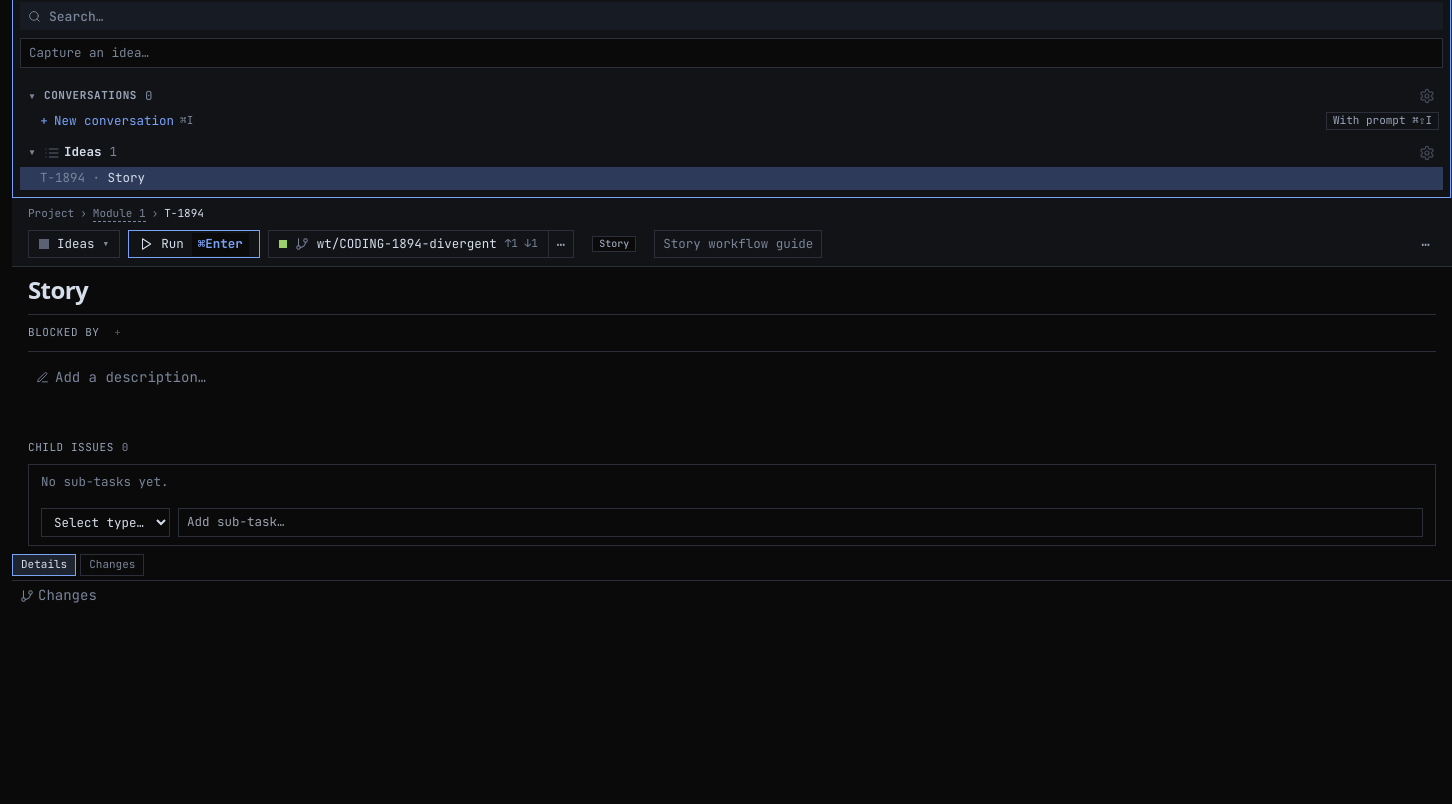
Test case: overhaul acceptance - divergent local merge recovery › [overhaul-318] finishes only the staged resolution after confirmation and remains retryable after hook failure
Click the tab "Changes". click: (112, 565)
box: [80, 554, 144, 576]
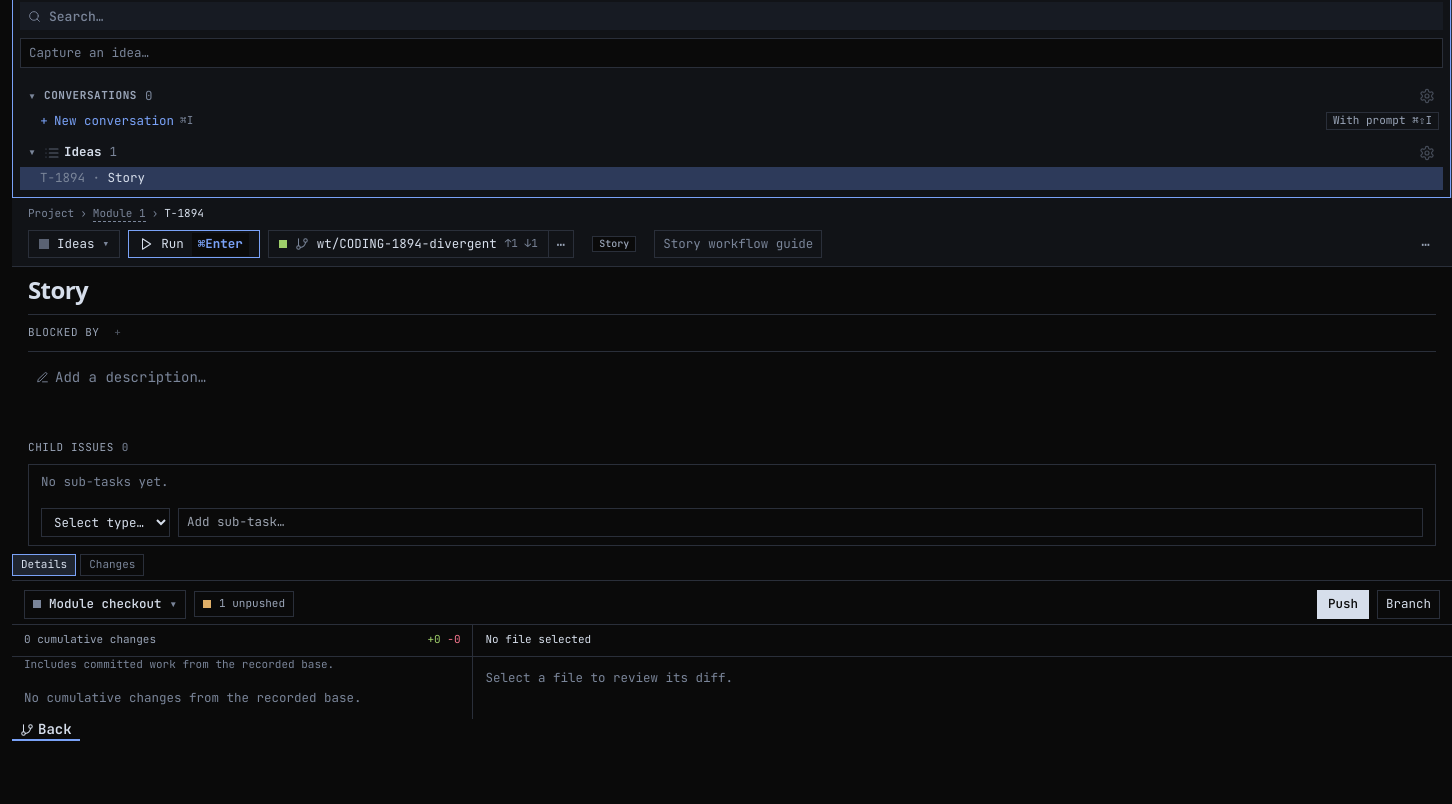
Click the button "Branch". click: (1408, 604)
box: [1377, 590, 1440, 619]
(page scrolled)
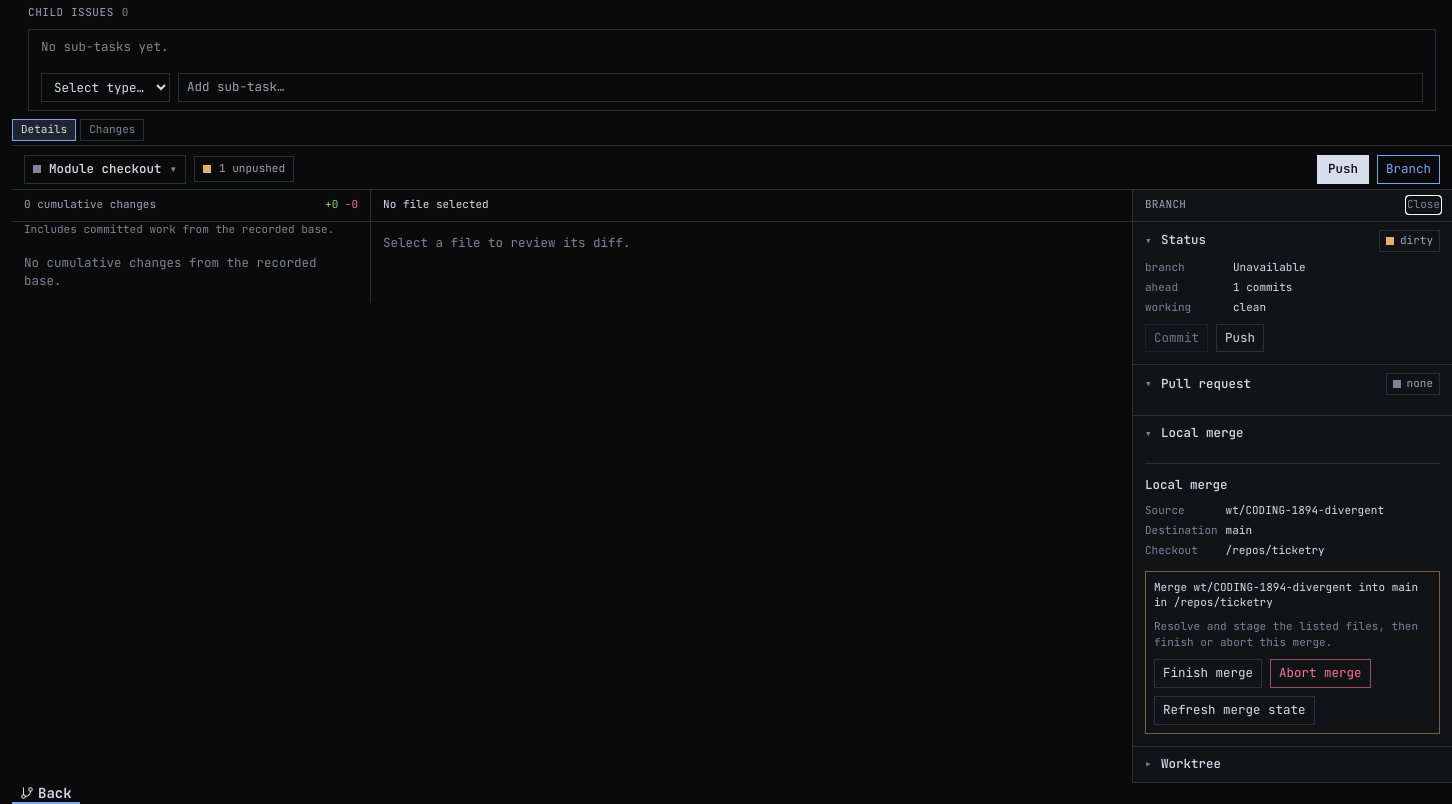
Click the button "Finish merge". click: (1208, 674)
box: [1154, 659, 1262, 688]
(page scrolled)
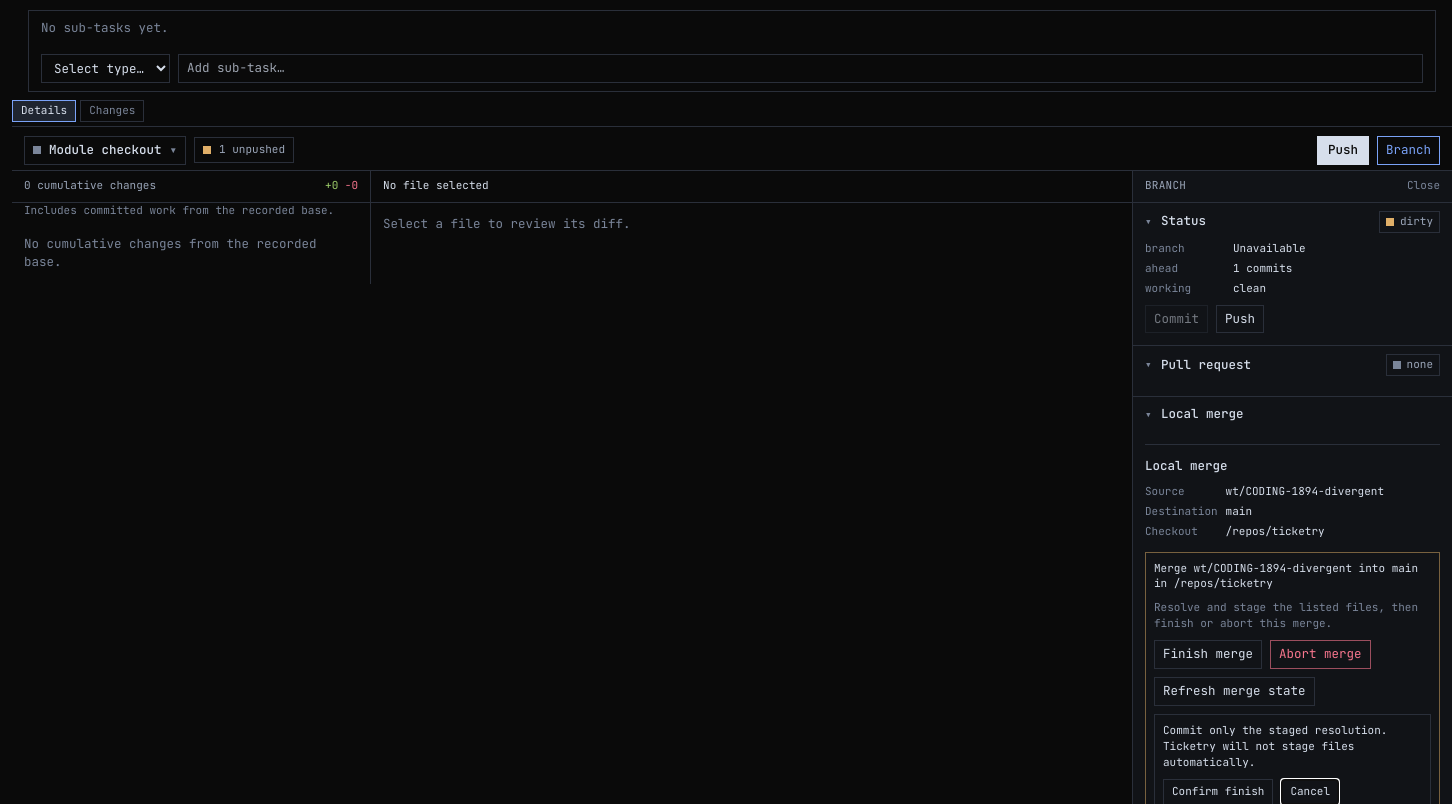
Expected: the element named "Confirm finish merge" shows "only the staged resolution", [1163, 723, 1387, 769]
Click the button "Confirm finish". click: (1218, 792)
box: [1163, 779, 1273, 803]
(page scrolled)
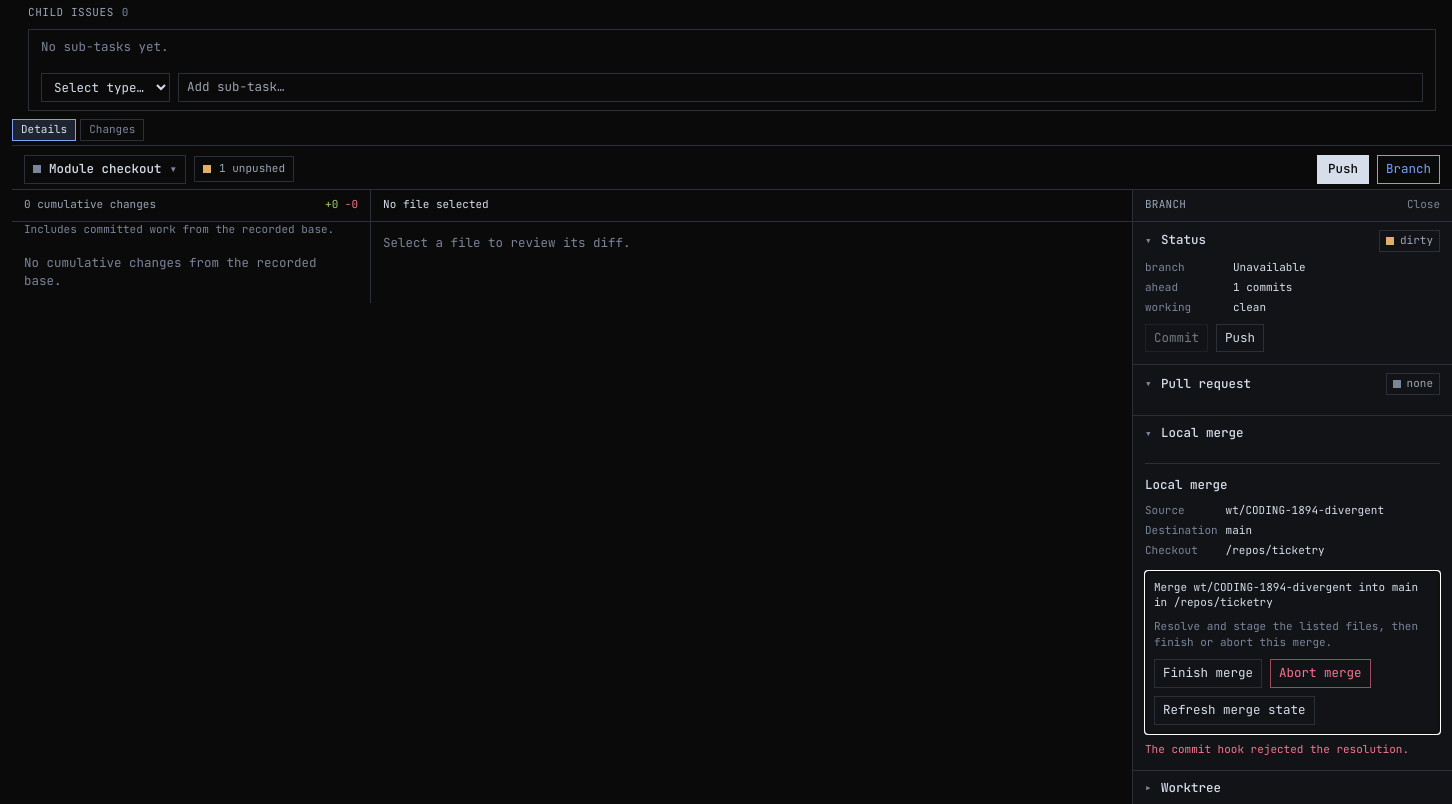
Expected: the button "Finish merge" is enabled
Expected: the message reads "The commit hook rejected the resolution.", [1145, 742, 1409, 756]
Click the button "Finish merge". click: (1208, 674)
box: [1154, 659, 1262, 688]
(page scrolled)
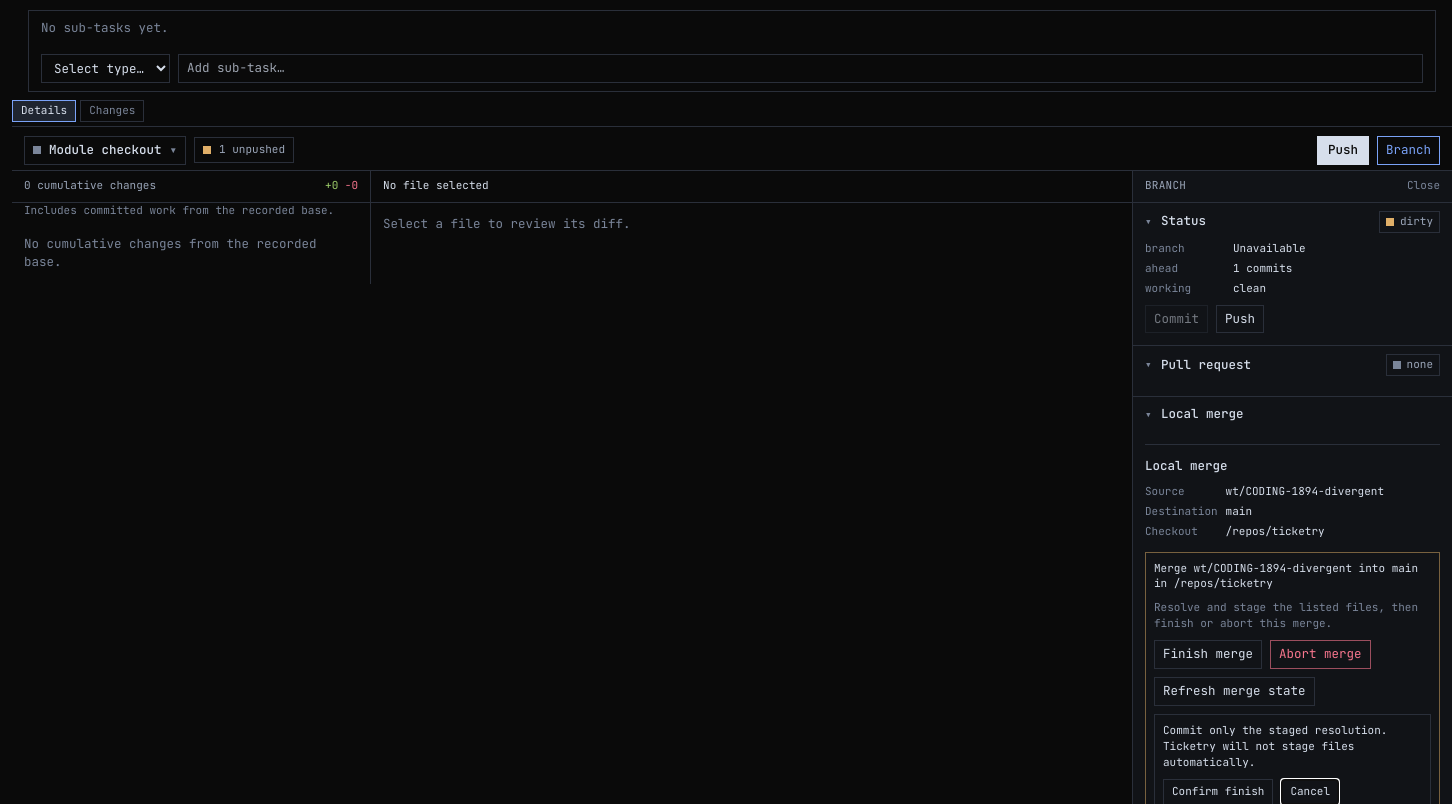
Click the button "Confirm finish". click: (1218, 792)
box: [1163, 779, 1273, 803]
(page scrolled)
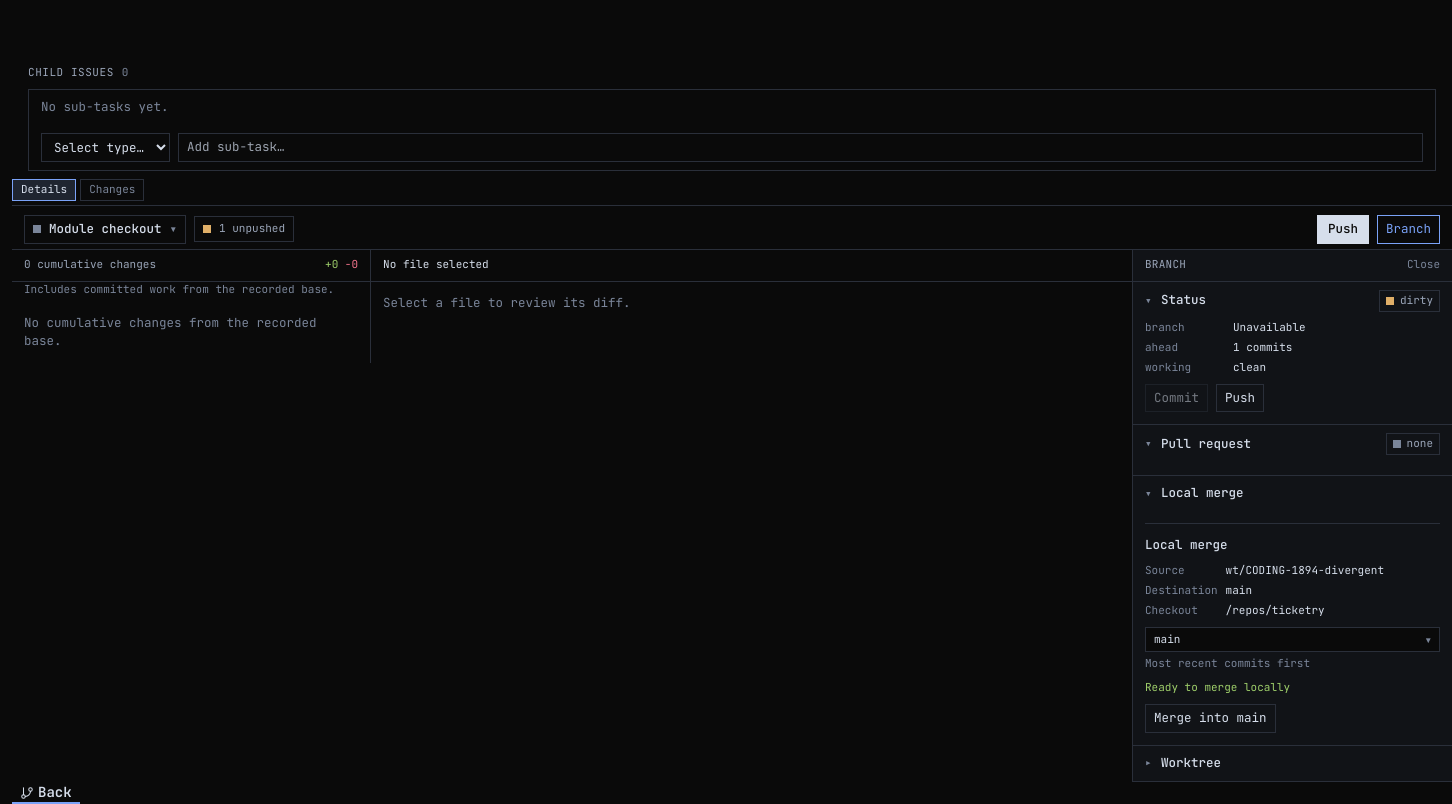
Expected: the button "Merge into main" is shown, [1145, 704, 1276, 733]
